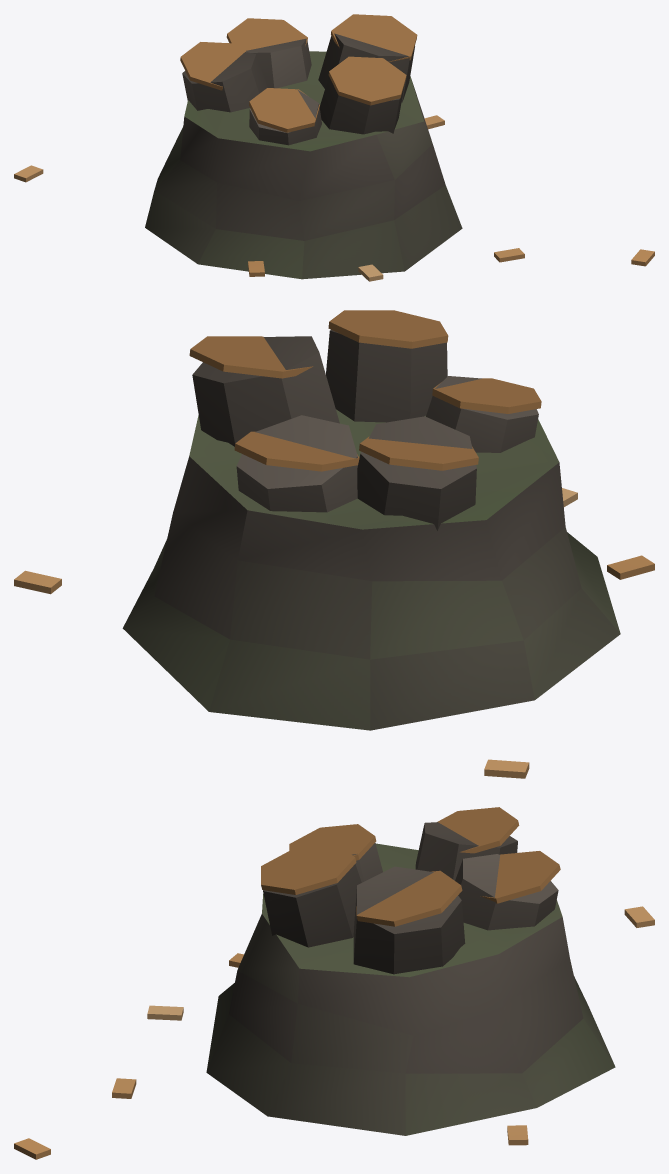
File: ph_env_alder_stump.glb
3 renders of one model, top to bottom at view 1: azimuth 30°, elevation 25°; view 2: azimuth 150°, elevation 25°; view 3: azimuth 270°, elevation 25°, orthographic. The views are drawn at different scales.
Visible parts, largest first — view 1: ph_env_alder_stump; view 2: ph_env_alder_stump; view 3: ph_env_alder_stump.
Part boxes in pixels (box(x1,y1,x2,y2)): ph_env_alder_stump: box(14, 14, 654, 281); ph_env_alder_stump: box(14, 310, 654, 778); ph_env_alder_stump: box(14, 807, 654, 1159).
Bounding box in the file's own units: 1.2 × 0.4898 × 1.31.
